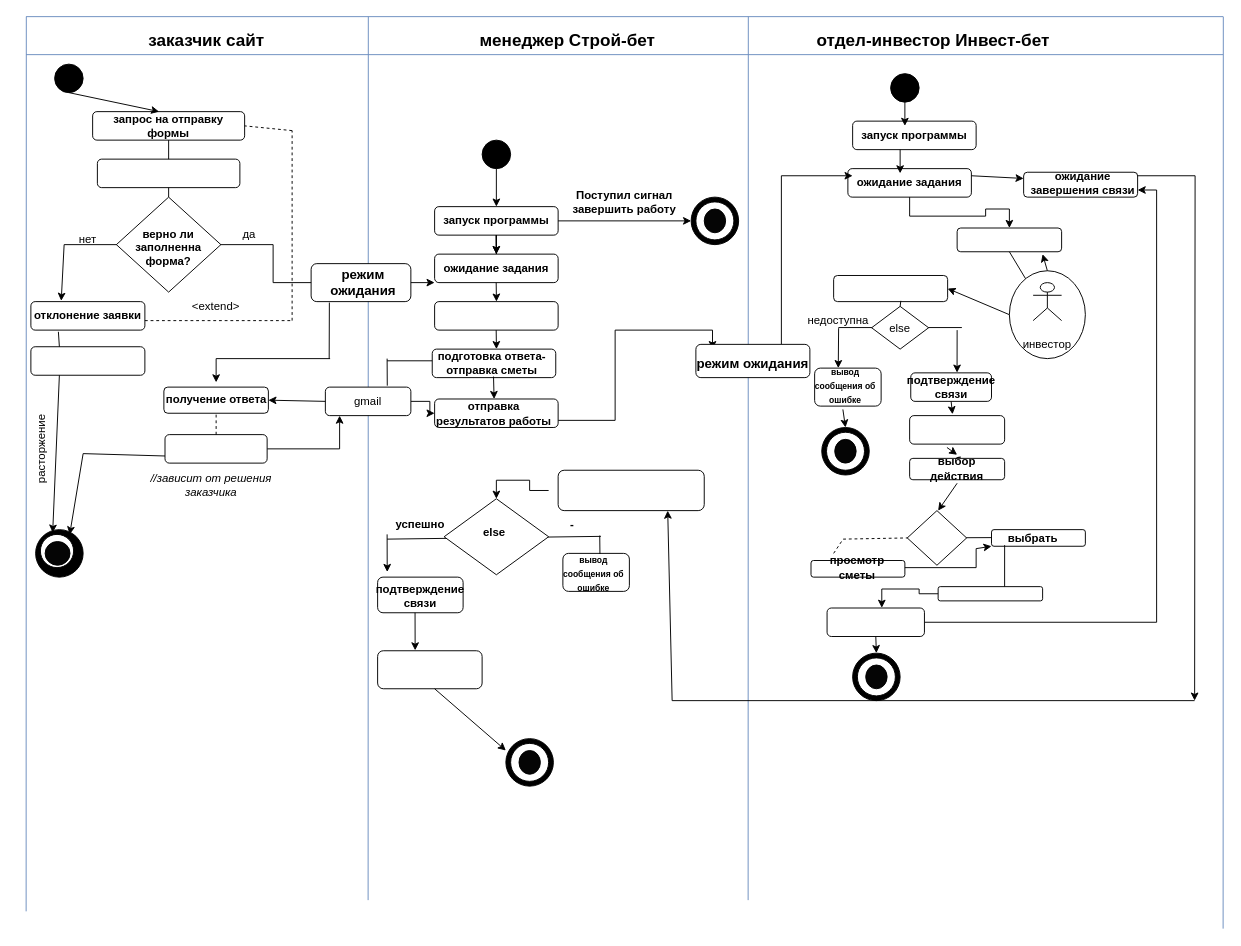
The diagram is 1241 pixels wide and 946 high, and some of its shapes have lost their labels. The shapes that lost their labels are listed below. From the top down, each one's box as (x1, y1, x2, y2) in pixels, then its label:
(96, 158, 240, 188): проверка
(956, 227, 1062, 252): поиск
(833, 275, 948, 302): запрос связи с системой
(1032, 282, 1062, 321): Actor
(434, 301, 558, 330): обработка задания
(30, 346, 145, 375): выход
(164, 434, 267, 463): ответ
(909, 415, 1005, 444): запрос действия
(557, 469, 704, 511): запрос связи с бухгалтерской системой перевода
(937, 586, 1043, 601): перевод средств
(826, 607, 924, 636): завершение сеанса связи
(377, 650, 482, 689): закончить задание
